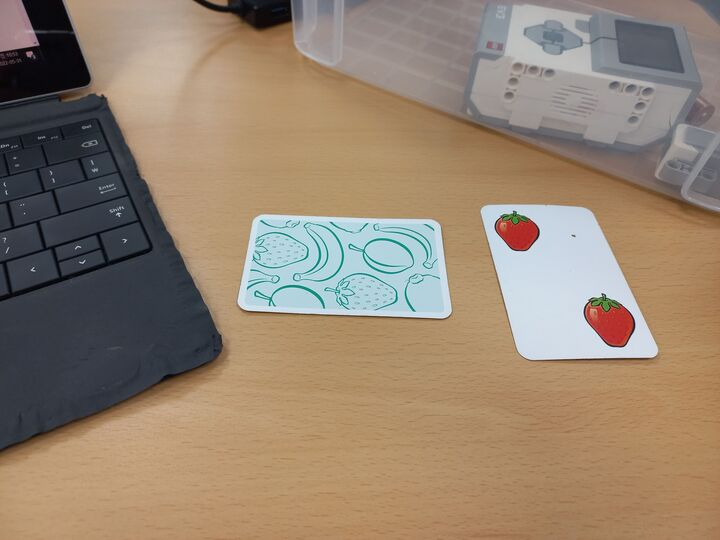strawberry2: (480, 202, 661, 362)
